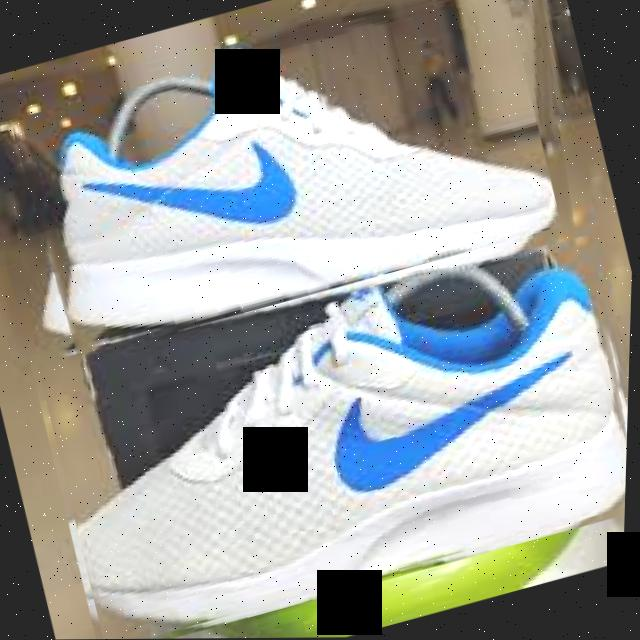shoe: (0, 0, 640, 640), (33, 214, 635, 640), (2, 0, 568, 361)
